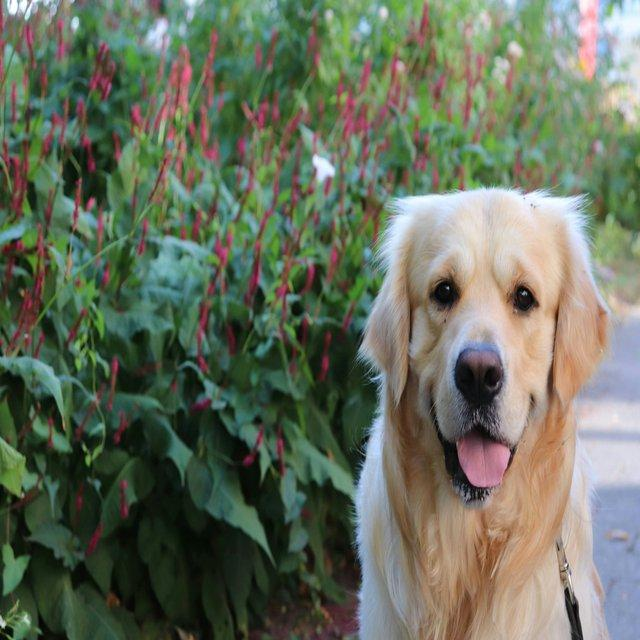retriever: (351, 184, 612, 639)
